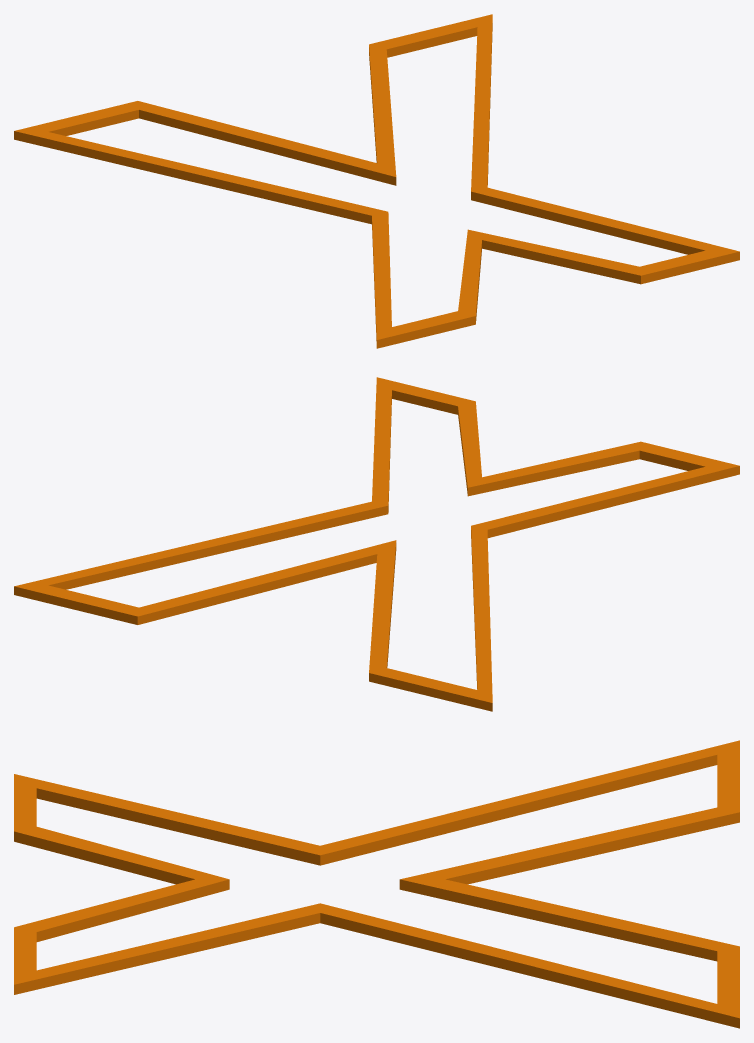
Rendered from XIcon.glb.
3 renders of one model, top to bottom at view 1: azimuth 30°, elevation 25°; view 2: azimuth 150°, elevation 25°; view 3: azimuth 270°, elevation 25°, orthographic. The views are drawn at different scales.
Visible parts, largest first — view 1: Icon; view 2: Icon; view 3: Icon.
Boxes of the visible parts, x1=… form: Icon: x1=14, y1=14, x2=739, y2=348; Icon: x1=14, y1=377, x2=739, y2=711; Icon: x1=14, y1=740, x2=739, y2=1028.
Size of the model in its own units: 5.8 by 0.1 by 6.4.
